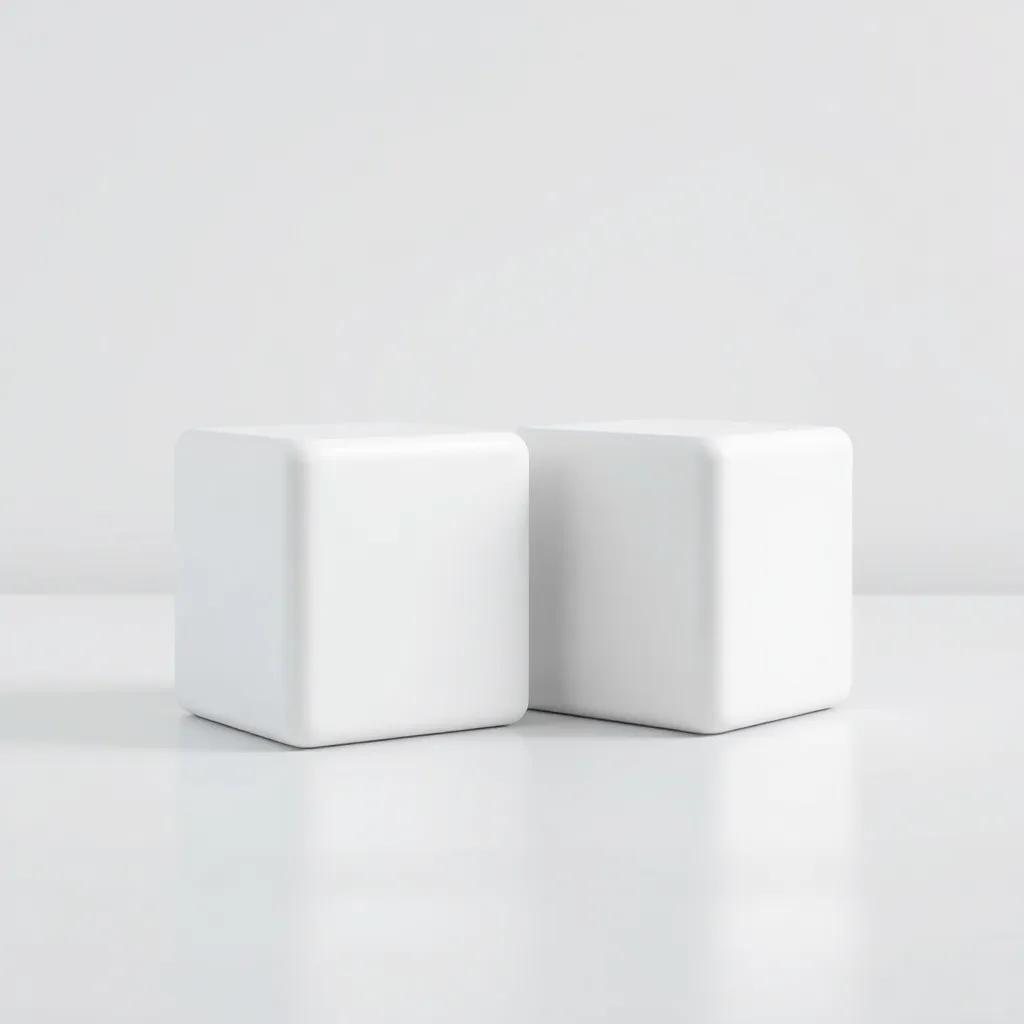cube: (172, 420, 530, 748), (515, 416, 854, 735)
